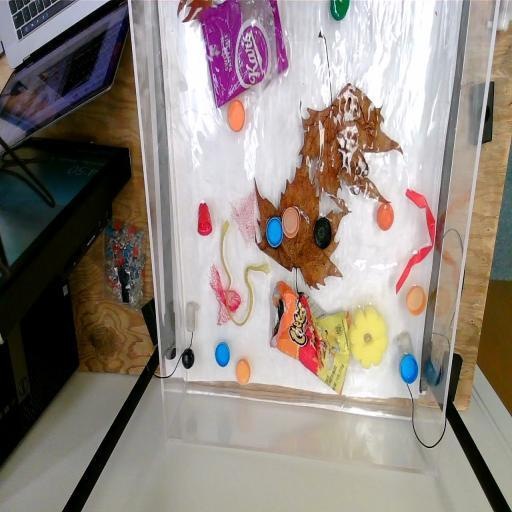Bottle Cap: (312, 212, 336, 252), (403, 280, 428, 318), (374, 192, 396, 234), (398, 350, 421, 390), (232, 354, 256, 392), (226, 96, 248, 134), (280, 203, 302, 241), (265, 210, 284, 250), (324, 0, 352, 25), (213, 337, 231, 373), (181, 346, 196, 372)
Cone Cap: (194, 198, 215, 240)
Leaf: (300, 45, 402, 210), (252, 160, 349, 296), (174, 0, 210, 23)
Netting: (204, 260, 243, 330), (228, 186, 260, 252)
Plastic Bag: (269, 277, 352, 404), (201, 0, 289, 108)
Plastic Strand: (217, 216, 270, 330), (393, 183, 437, 300)
Sponge: (345, 300, 390, 373)
